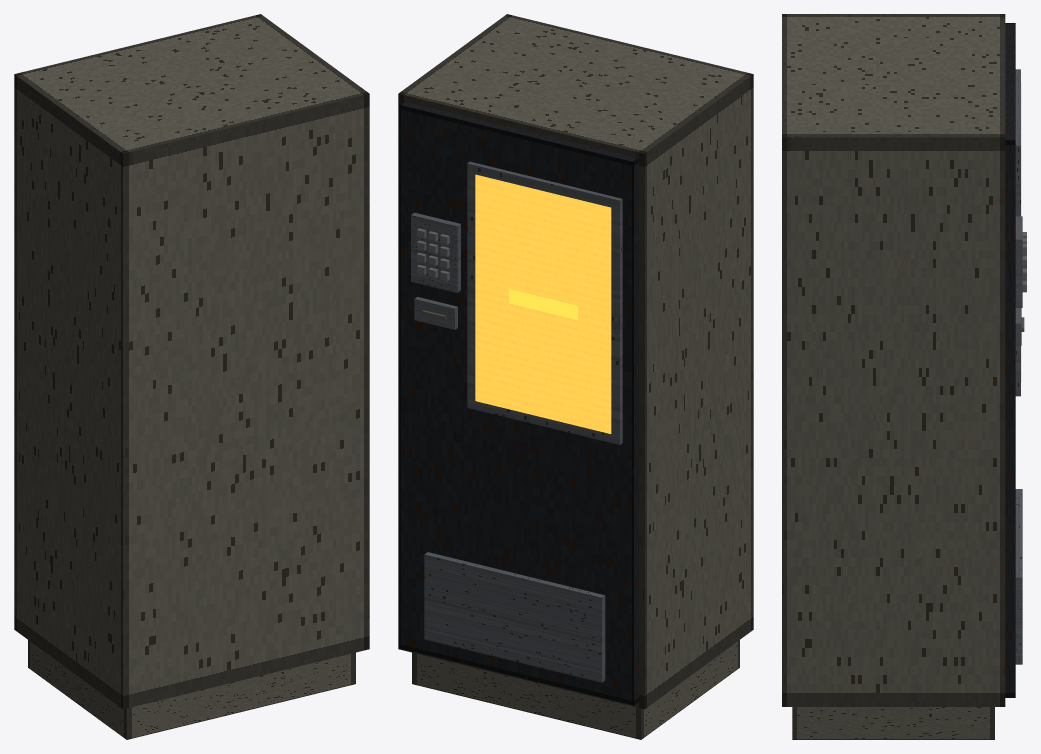
File: ration_automat_habitation_worn.glb
The picture shows the model from 3 angles, left to right: view 1: azimuth 30°, elevation 25°; view 2: azimuth 150°, elevation 25°; view 3: azimuth 270°, elevation 25°; orthographic projection. The views are drawn at different scales.
Visible parts, largest first — view 1: ration_automat_habitation_worn; view 2: ration_automat_habitation_worn; view 3: ration_automat_habitation_worn.
Part boxes in pixels (x1,y1,x2,y2): ration_automat_habitation_worn: (14, 14, 369, 739); ration_automat_habitation_worn: (398, 14, 753, 739); ration_automat_habitation_worn: (782, 14, 1026, 739).
Bounding box in the file's own units: 0.85 × 1.95 × 0.7125.
7 materials, 7 textured.
